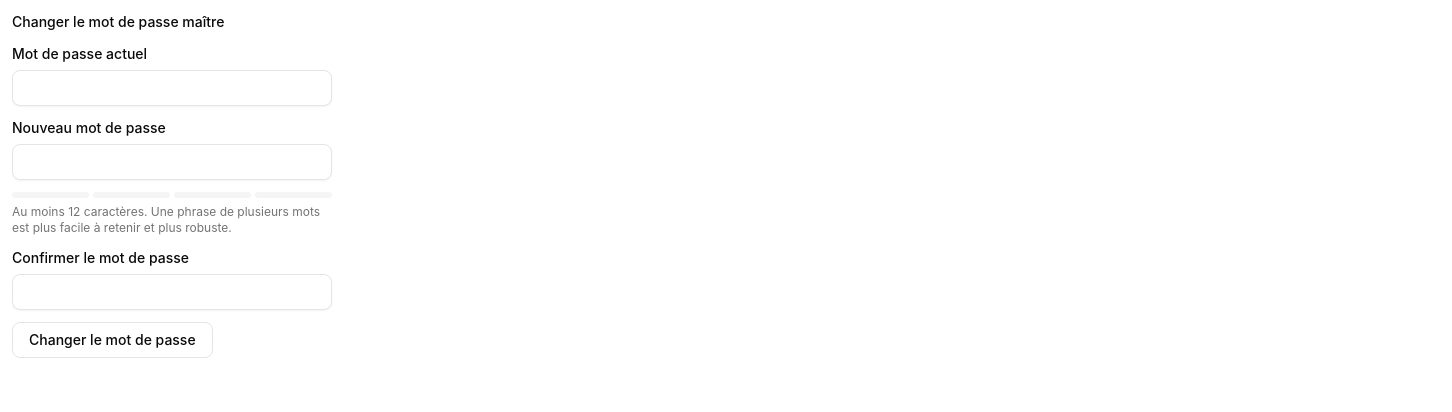
Test: changement du mot de passe maître (VLT-04) › exige le mot de passe actuel
The width and height of the screenshot is (1452, 412).
Type "cheval agrafe batterie correct 42" into the password field labelled "Nouveau mot de passe".
click(172, 162); type("cheval agrafe batterie correct 42")  # box [12,144,332,180]
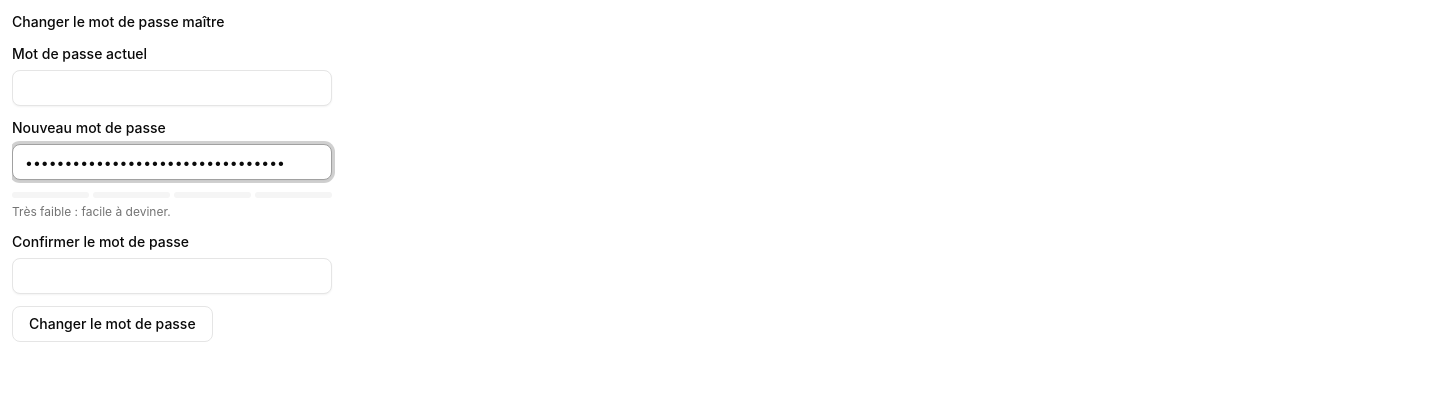
Type "cheval agrafe batterie correct 42" into the password field labelled "Confirmer le mot de passe".
click(172, 276); type("cheval agrafe batterie correct 42")  # box [12,258,332,294]
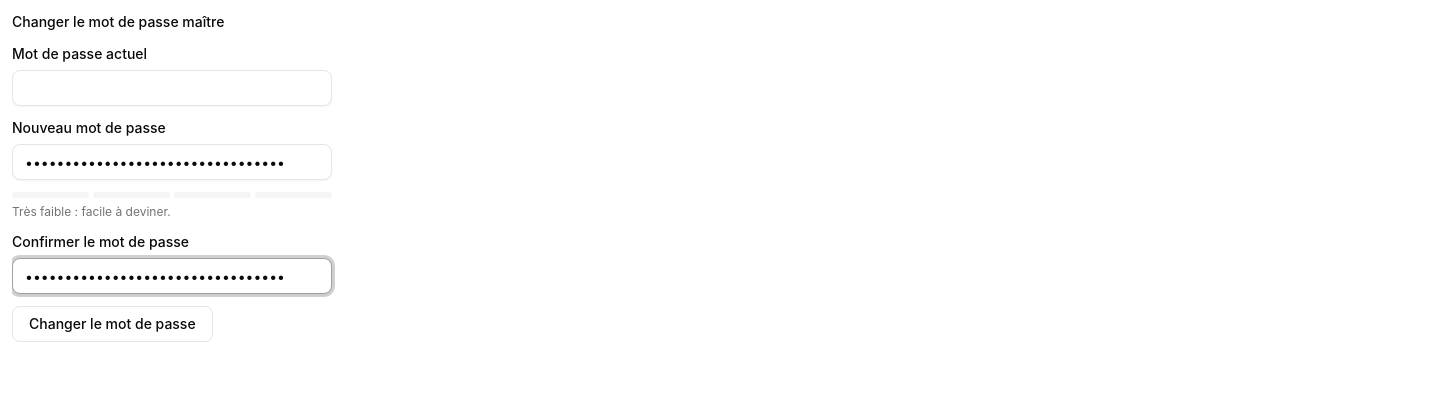
Click the button "Changer le mot de passe".
click(112, 324)  # box [12,306,213,342]
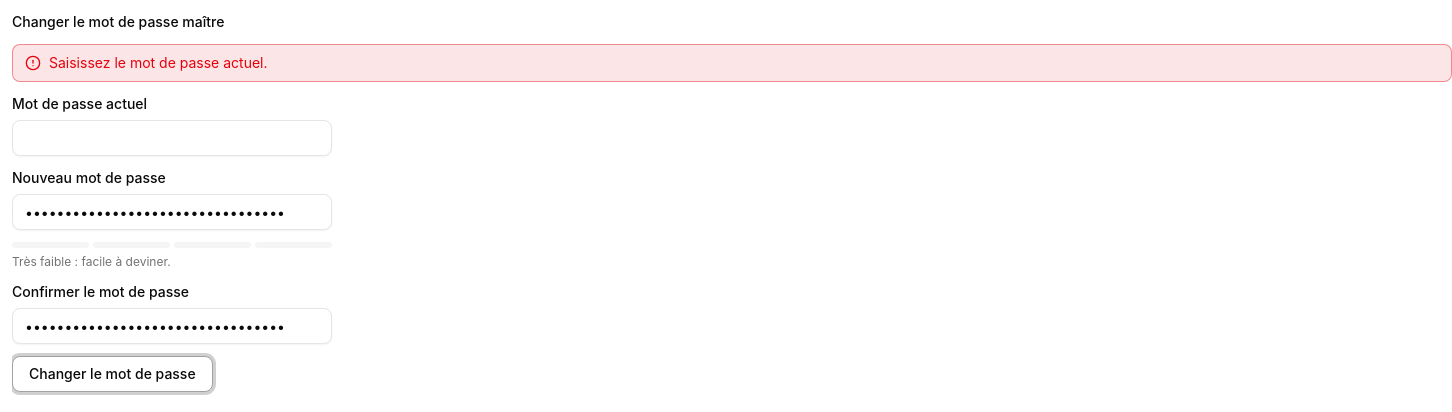
Check: the message shows "mot de passe actuel", box [49,54,268,71]
